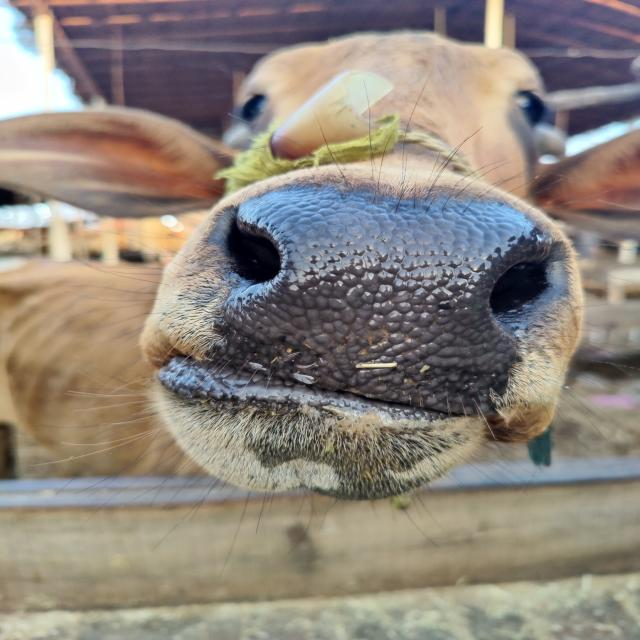muzzles: (195, 180, 562, 410)
